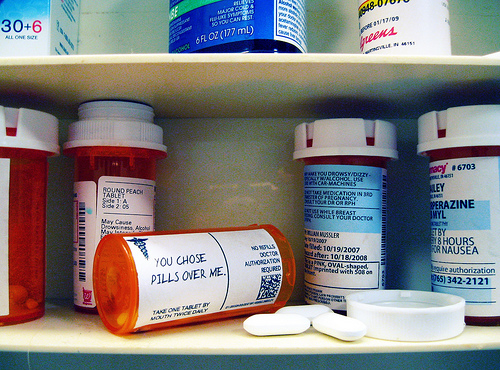pill bottle: (89, 220, 300, 338), (66, 97, 170, 321), (289, 115, 402, 314), (415, 101, 500, 330), (1, 101, 59, 331)
